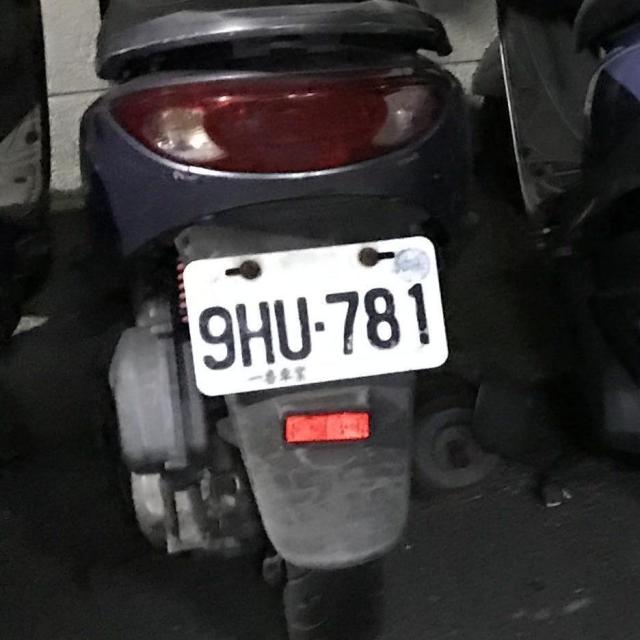W: (175, 224, 457, 402)
